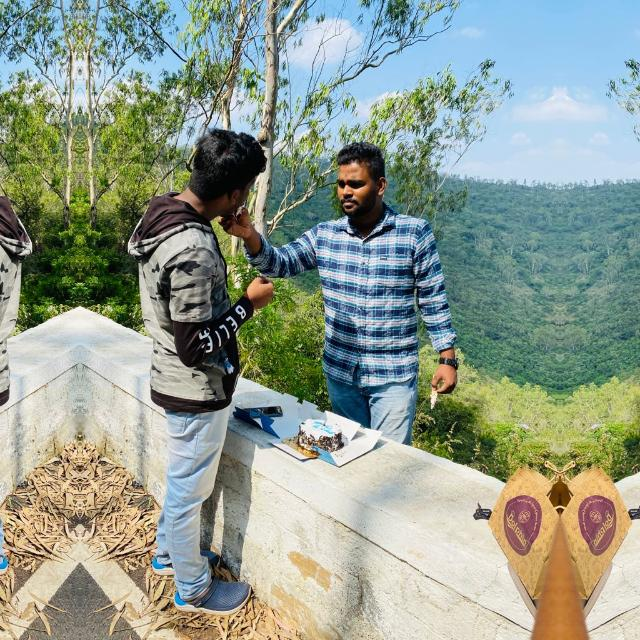person: (316, 140, 442, 422)
